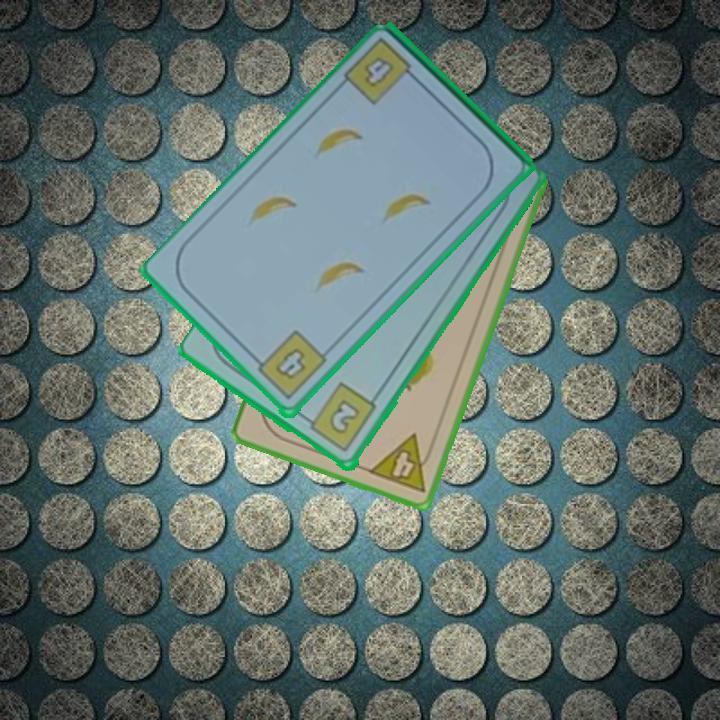2b: (300, 380, 379, 456)
4b: (249, 327, 330, 404), (340, 34, 423, 109)
4p: (365, 430, 439, 496)
